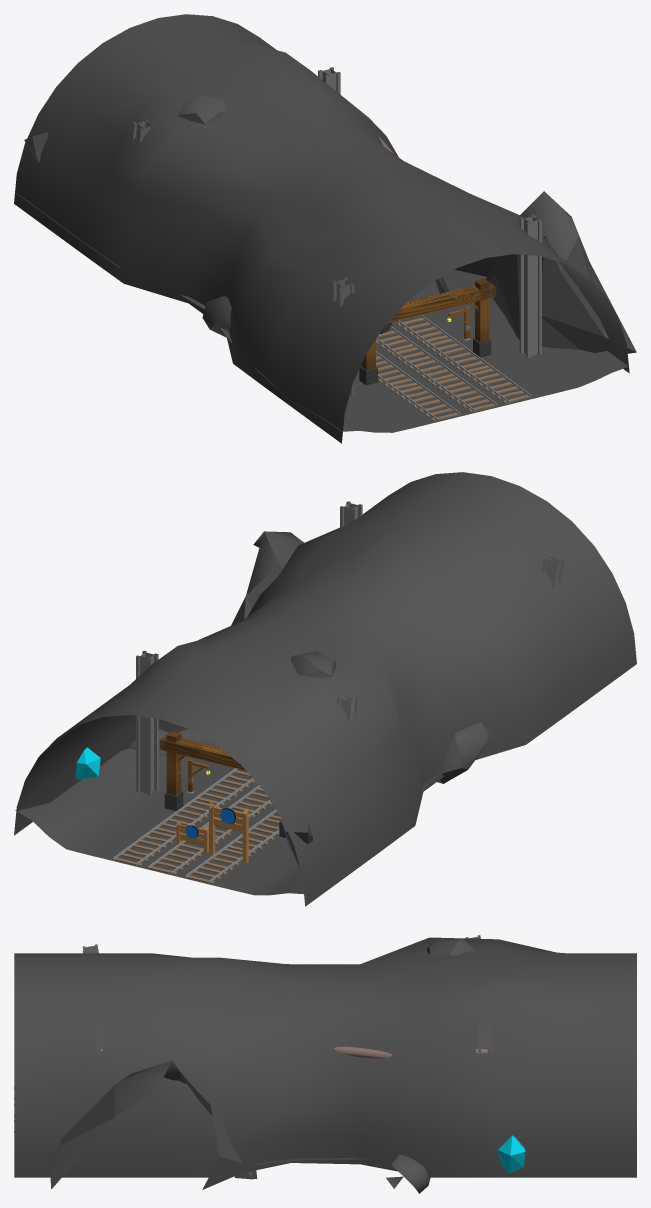
File: Modulo V2 Obstaculos.fbx
3 views of the same model, one above another, from view 1: azimuth 30°, elevation 25°; view 2: azimuth 150°, elevation 25°; view 3: azimuth 270°, elevation 25° (orthographic). The views are drawn at different scales.
Parts seen in each view (by area): view 1: Cube.047; view 2: Cube.047; view 3: Cube.047.
Boxes of the visible parts, <box> form: Cube.047: <box>14,14,636,443</box>; Cube.047: <box>14,472,636,906</box>; Cube.047: <box>14,935,636,1193</box>.
Bounding box in the file's own units: 2645 × 1467 × 4762.
